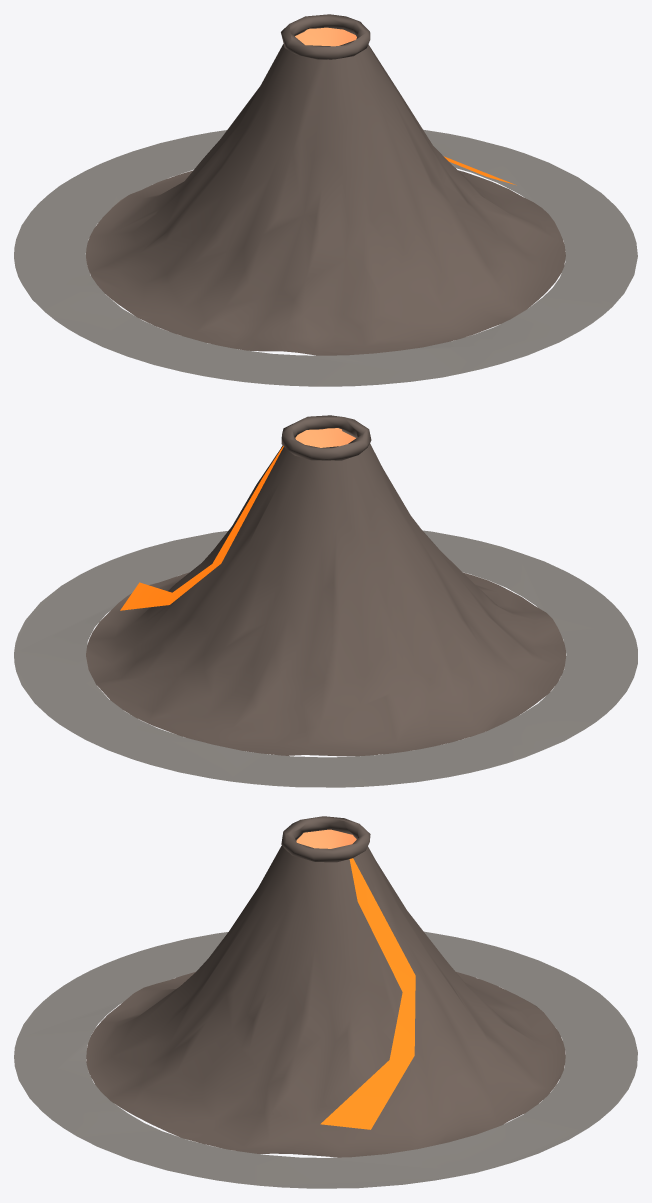
File: volcano_stratovolcano_low.glb
3 views of the same model, one above another, from view 1: azimuth 30°, elevation 25°; view 2: azimuth 150°, elevation 25°; view 3: azimuth 270°, elevation 25° (orthographic).
Visible parts, largest first — view 1: Volcano_Cone_LOW, Volcano_BaseTerrain_LOW, Volcano_CraterRim_LOW, Volcano_CraterInner_LOW; view 2: Volcano_Cone_LOW, Volcano_BaseTerrain_LOW, Volcano_CraterRim_LOW, Volcano_LavaFlow_01_LOW, Volcano_CraterInner_LOW; view 3: Volcano_Cone_LOW, Volcano_BaseTerrain_LOW, Volcano_LavaFlow_01_LOW, Volcano_CraterRim_LOW, Volcano_CraterInner_LOW.
Part boxes in pixels (<box>): Volcano_Cone_LOW: <box>86,44,565,355</box>; Volcano_BaseTerrain_LOW: <box>14,129,637,386</box>; Volcano_CraterRim_LOW: <box>281,14,370,59</box>; Volcano_CraterInner_LOW: <box>295,27,356,46</box>; Volcano_Cone_LOW: <box>86,443,566,756</box>; Volcano_BaseTerrain_LOW: <box>14,530,637,787</box>; Volcano_CraterRim_LOW: <box>281,415,371,460</box>; Volcano_LavaFlow_01_LOW: <box>120,446,283,610</box>; Volcano_CraterInner_LOW: <box>295,428,355,447</box>; Volcano_Cone_LOW: <box>86,845,565,1157</box>; Volcano_BaseTerrain_LOW: <box>14,931,637,1188</box>; Volcano_LavaFlow_01_LOW: <box>320,858,415,1129</box>; Volcano_CraterRim_LOW: <box>281,816,370,862</box>; Volcano_CraterInner_LOW: <box>296,829,356,848</box>.
Size of the model in its own units: 2.6 by 1.03 by 2.6.
